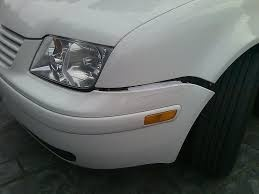Dent: (89, 71, 218, 115)
